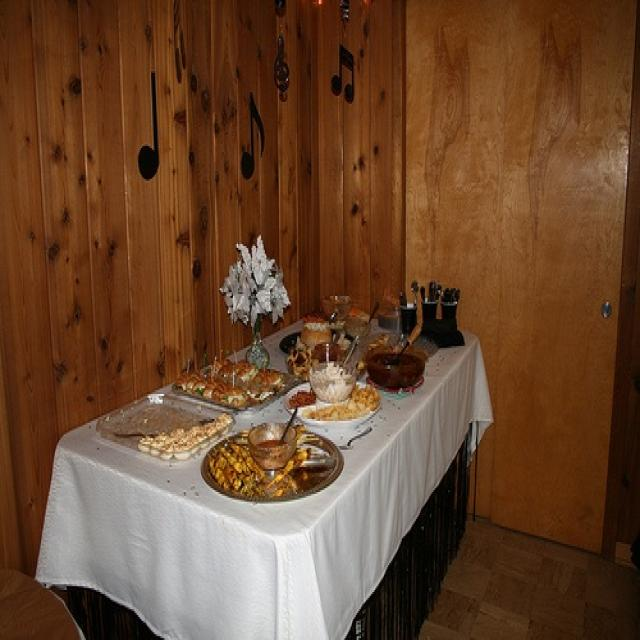diningtable: (34, 301, 481, 639)
